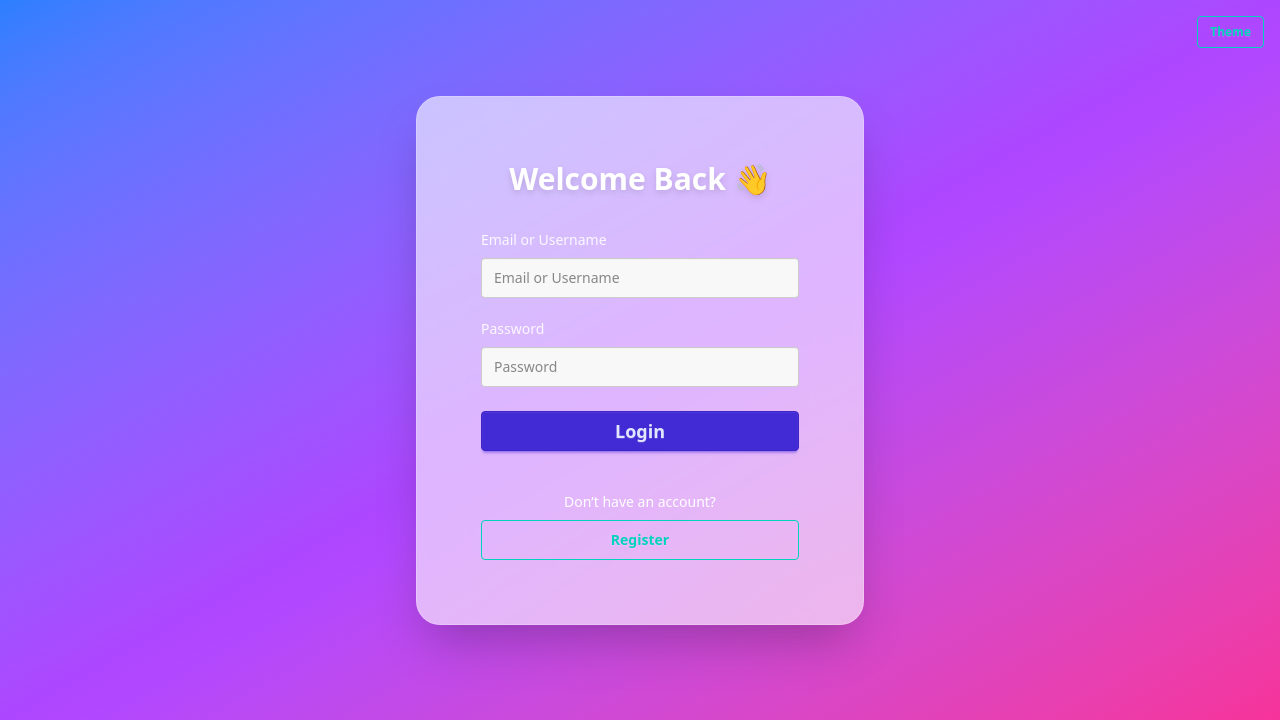
Test case: Auth Pages - Register & Login › 8. Show login error for invalid credentials
Type "wronguser@example.com" into the field named "identifier".
click(640, 278); type("wronguser@example.com")  # box [481,258,799,298]
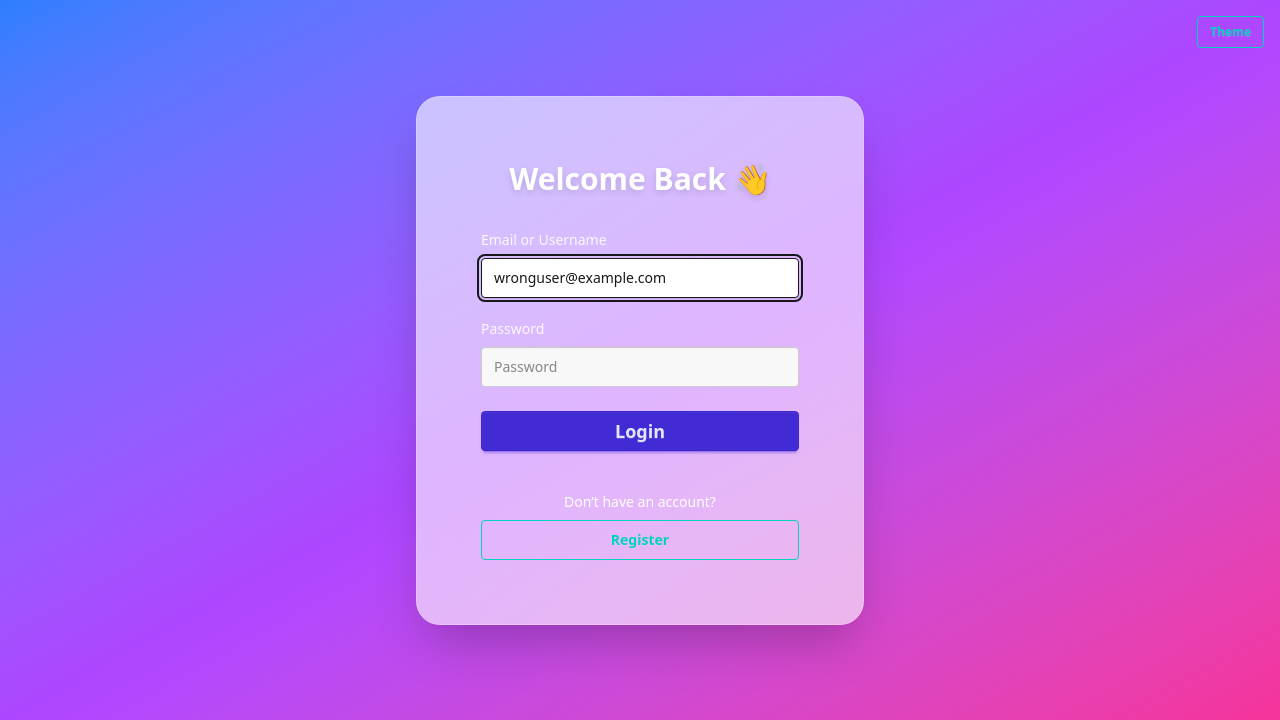
Type "WrongPassword" into the password field named "password".
click(640, 367); type("WrongPassword")  # box [481,347,799,387]
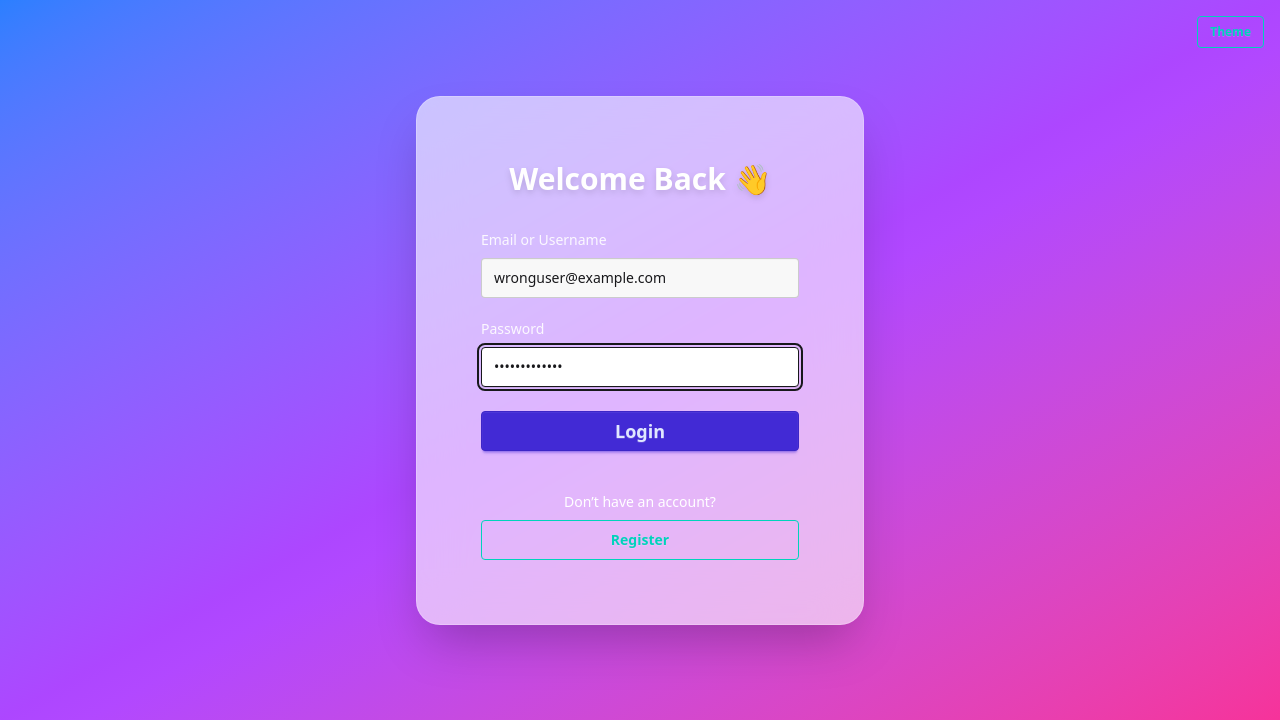
Submit the form, box [481,229,799,451]
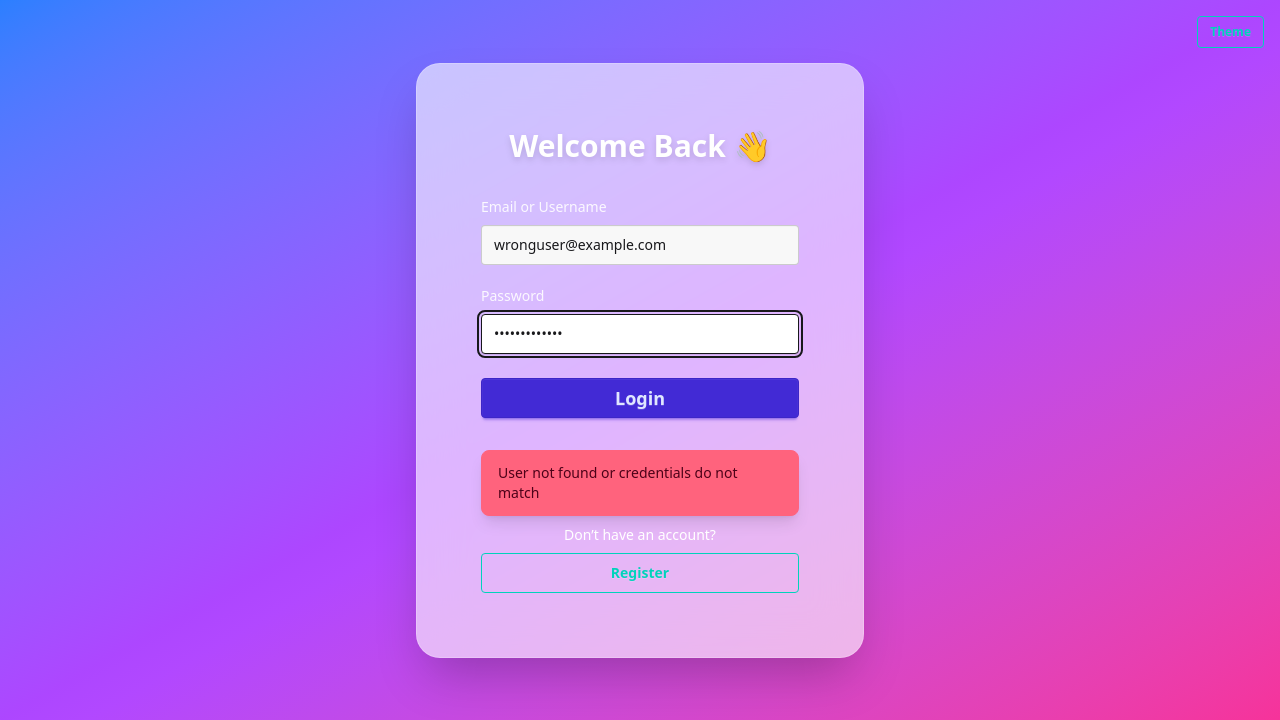
Expected: the text "User not found or credentials do not match" is shown, [498,462,738,502]
